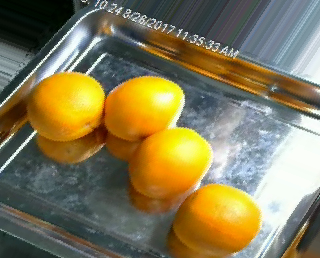Orange: (173, 182, 262, 253), (128, 126, 214, 198), (26, 71, 104, 142), (103, 75, 185, 141)
